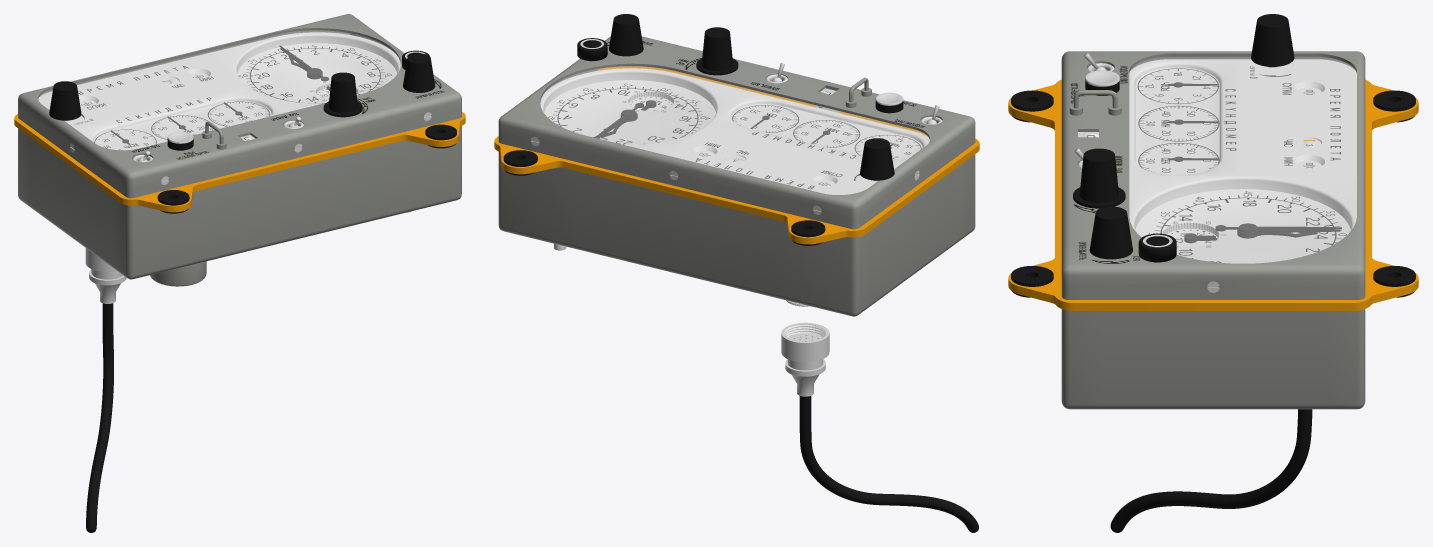
File: SoyuzElectroMechanicalSpaceClock.glb
3 views of the same model, side by side, from view 1: azimuth 30°, elevation 25°; view 2: azimuth 150°, elevation 25°; view 3: azimuth 270°, elevation 25° (orthographic). The views are drawn at different scales.
Parts seen in each view (by area): view 1: bottom_cap, top_cap_glass, plate_face, top_cap, flipped_plate, cable, time_adjust, clear_to_zero_nob, alarm_adjust_nob, cap, connector_plug; view 2: bottom_cap, top_cap_glass, plate_face, top_cap, flipped_plate, cable, connector_plug.001, time_adjust, clear_to_zero_nob, alarm_adjust_nob, connector_plug, advance_second_hand; view 3: top_cap_glass, plate_face, bottom_cap, top_cap, flipped_plate, cable, time_adjust, alarm_adjust_nob, clear_to_zero_nob, advance_second_hand, bump_rubber.001, bump_rubber.003 (+4 smaller).
Boxes of the visible parts, bbox=[...] form: bottom_cap: bbox=[18, 126, 461, 279]; top_cap_glass: bbox=[38, 30, 400, 149]; plate_face: bbox=[38, 32, 400, 150]; top_cap: bbox=[18, 14, 461, 198]; flipped_plate: bbox=[14, 75, 465, 212]; cable: bbox=[86, 303, 113, 532]; time_adjust: bbox=[323, 72, 362, 117]; clear_to_zero_nob: bbox=[49, 81, 81, 120]; alarm_adjust_nob: bbox=[403, 53, 435, 92]; cap: bbox=[150, 261, 207, 286]; connector_plug: bbox=[89, 269, 126, 303]; bottom_cap: bbox=[498, 152, 975, 316]; top_cap_glass: bbox=[540, 66, 929, 194]; plate_face: bbox=[540, 68, 929, 194]; top_cap: bbox=[498, 36, 975, 229]; flipped_plate: bbox=[494, 66, 979, 244]; cable: bbox=[799, 396, 978, 532]; connector_plug.001: bbox=[781, 322, 829, 362]; time_adjust: bbox=[696, 27, 738, 75]; clear_to_zero_nob: bbox=[860, 138, 894, 180]; alarm_adjust_nob: bbox=[609, 14, 643, 56]; connector_plug: bbox=[785, 333, 825, 396]; advance_second_hand: bbox=[577, 38, 607, 61]; top_cap_glass: bbox=[1129, 57, 1356, 263]; plate_face: bbox=[1129, 59, 1356, 263]; bottom_cap: bbox=[1061, 309, 1365, 409]; top_cap: bbox=[1061, 51, 1365, 299]; flipped_plate: bbox=[1008, 79, 1418, 310]; cable: bbox=[1110, 409, 1312, 532]; time_adjust: bbox=[1073, 148, 1125, 208]; alarm_adjust_nob: bbox=[1089, 206, 1132, 259]; clear_to_zero_nob: bbox=[1251, 14, 1294, 66]; advance_second_hand: bbox=[1138, 233, 1176, 262]; bump_rubber.001: bbox=[1373, 90, 1415, 122]; bump_rubber.003: bbox=[1011, 90, 1053, 122].
Size of the model in its own units: 0.1658 by 0.1758 by 0.1216.
Materials: 21 (11 with a texture image).
